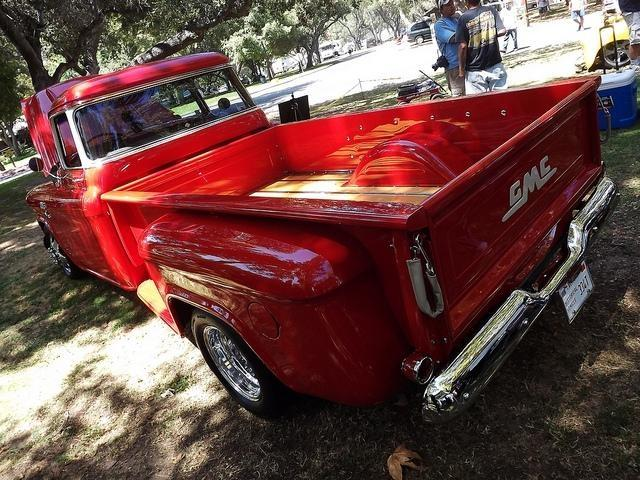car: (407, 21, 432, 45), (318, 41, 336, 61)
truck: (22, 43, 610, 409)
